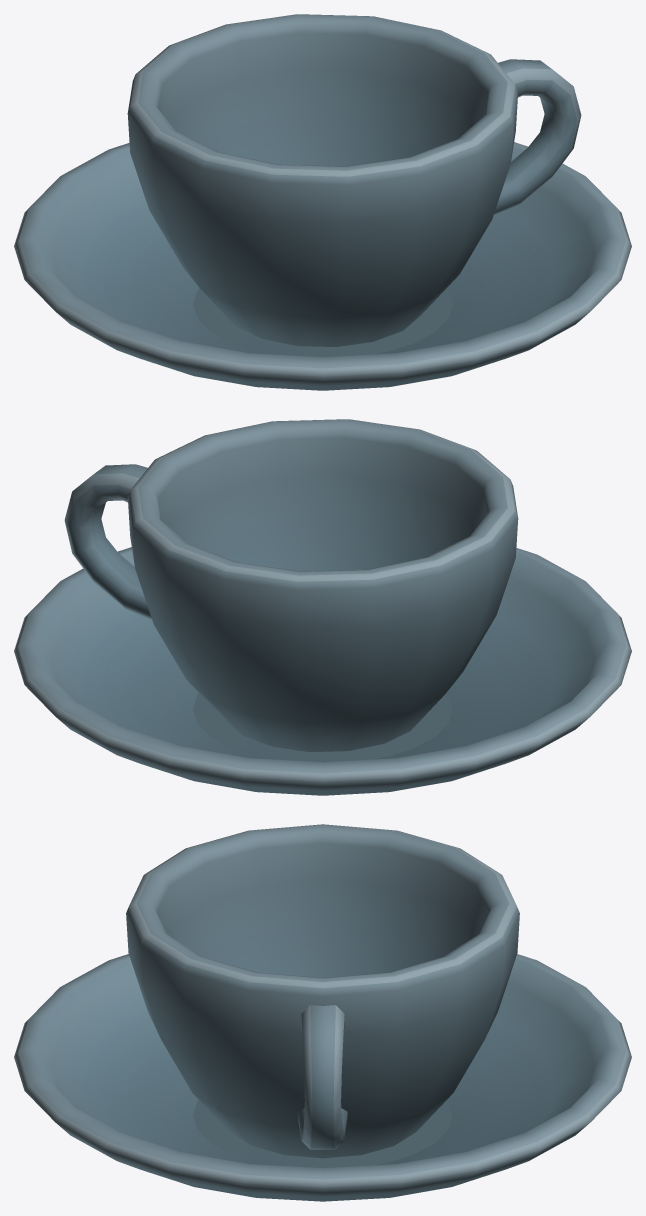
The model's file is cup_001.fbx.
3 renders of one model, top to bottom at view 1: azimuth 30°, elevation 25°; view 2: azimuth 150°, elevation 25°; view 3: azimuth 270°, elevation 25°, orthographic.
Visible parts, largest first — view 1: cup_001; view 2: cup_001; view 3: cup_001.
Boxes of the visible parts, box(x1,y1,x2,y2) form: cup_001: box(14, 14, 631, 390); cup_001: box(14, 419, 631, 795); cup_001: box(14, 824, 631, 1201).
Bounding box in the file's own units: 12.69 × 12.69 × 5.01.
